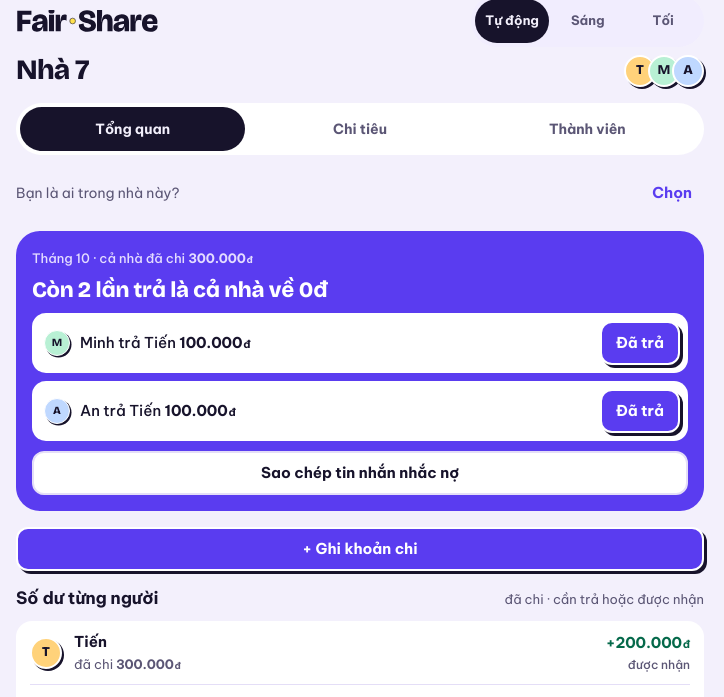
Test: a mistaken payment can be deleted, and the debt comes back
This screenshot has width=724, height=697.
Click the button "Đã trả" in the row of "Minh trả Tiến" at {"x": 640, "y": 343}, box [600,321,680,365]
(page scrolled)
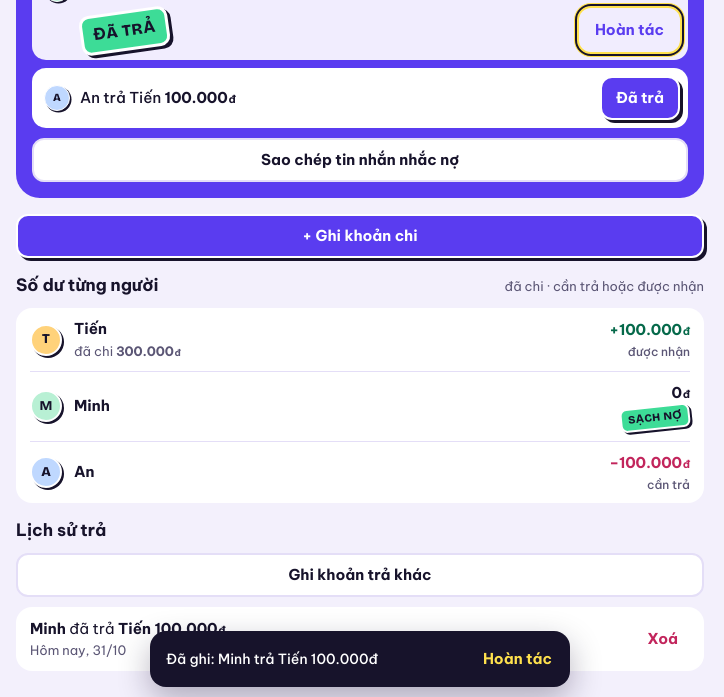
Click the button with aria-label "Xoá khoản Minh trả Tiến" at {"x": 663, "y": 639}, box [635,617,690,661]
(page scrolled)
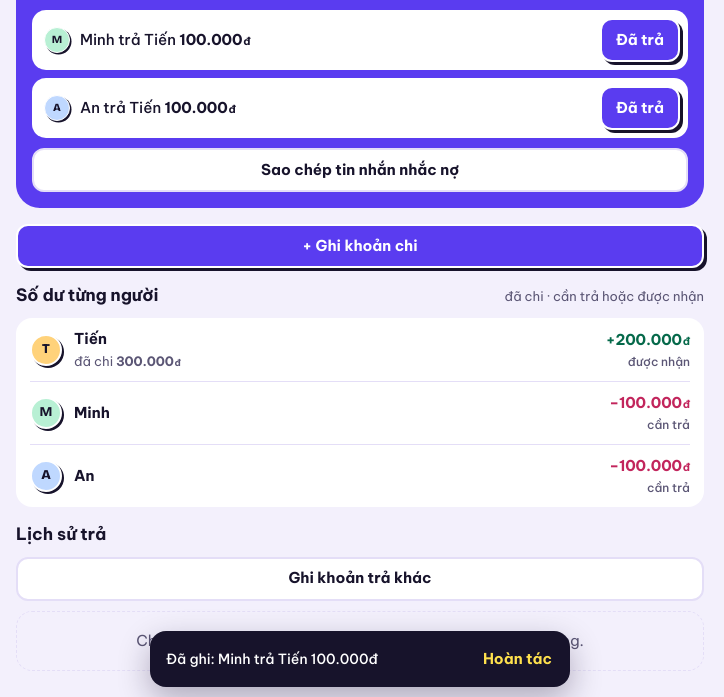
Result: the text "Chưa có khoản trả nào" is shown at [136,630,584,650]
Result: the number of buttons "Đã trả" is 2 at [600,18,680,62]; [600,86,680,130]
